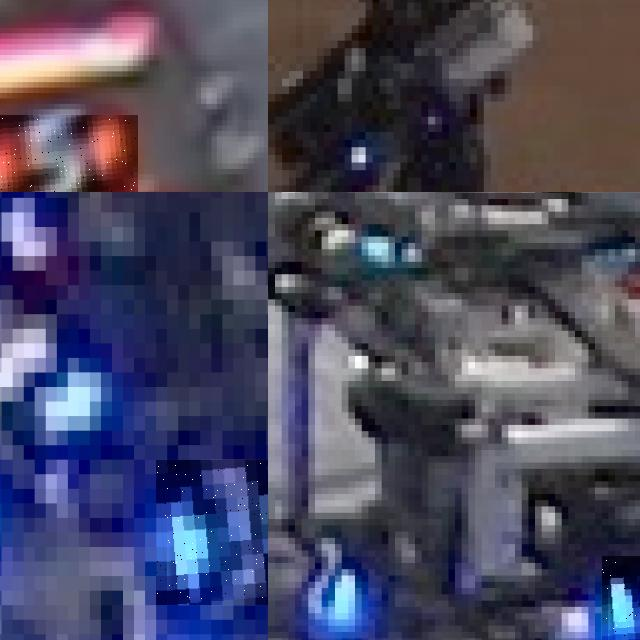B2: (281, 525, 368, 640), (601, 556, 640, 640)
B3: (156, 459, 268, 605)
R5: (0, 114, 138, 192)
